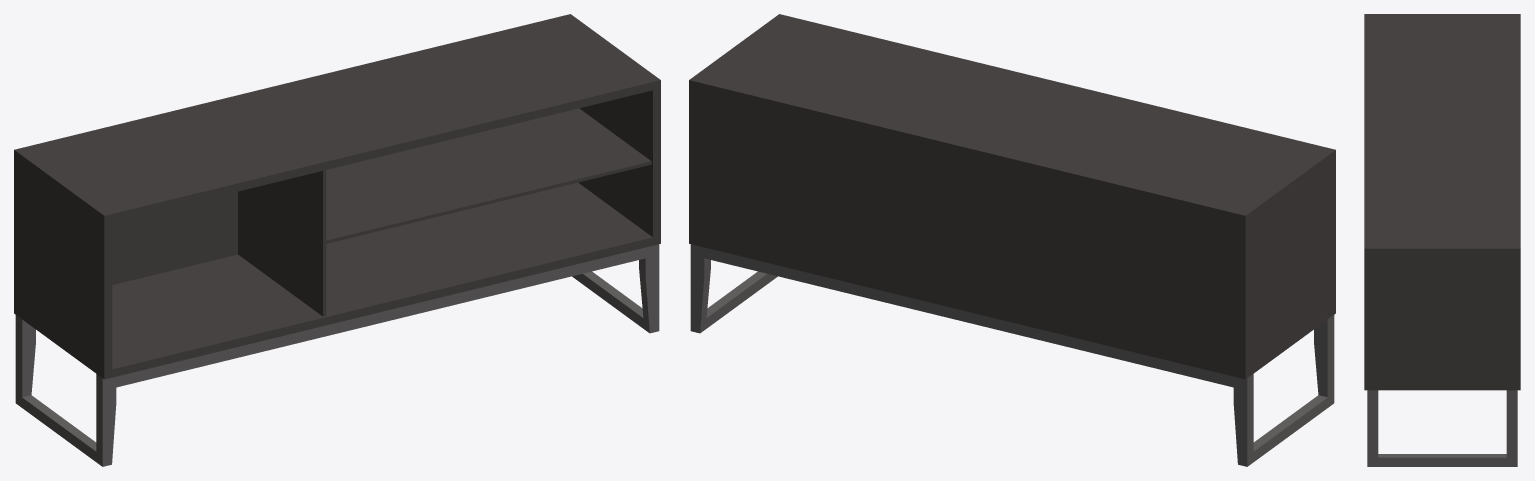
The model's file is Cupboard_23_01.fbx.
The picture shows the model from 3 angles, left to right: view 1: azimuth 30°, elevation 25°; view 2: azimuth 150°, elevation 25°; view 3: azimuth 270°, elevation 25°; orthographic projection. The views are drawn at different scales.
Parts seen in each view (by area): view 1: Cupboard_23_01; view 2: Cupboard_23_01; view 3: Cupboard_23_01.
Part boxes in pixels (x1,y1,x2,y2): Cupboard_23_01: (14, 14, 660, 466); Cupboard_23_01: (689, 14, 1335, 466); Cupboard_23_01: (1364, 14, 1520, 466).
Size of the model in its own units: 132 by 57.37 by 37.21.
